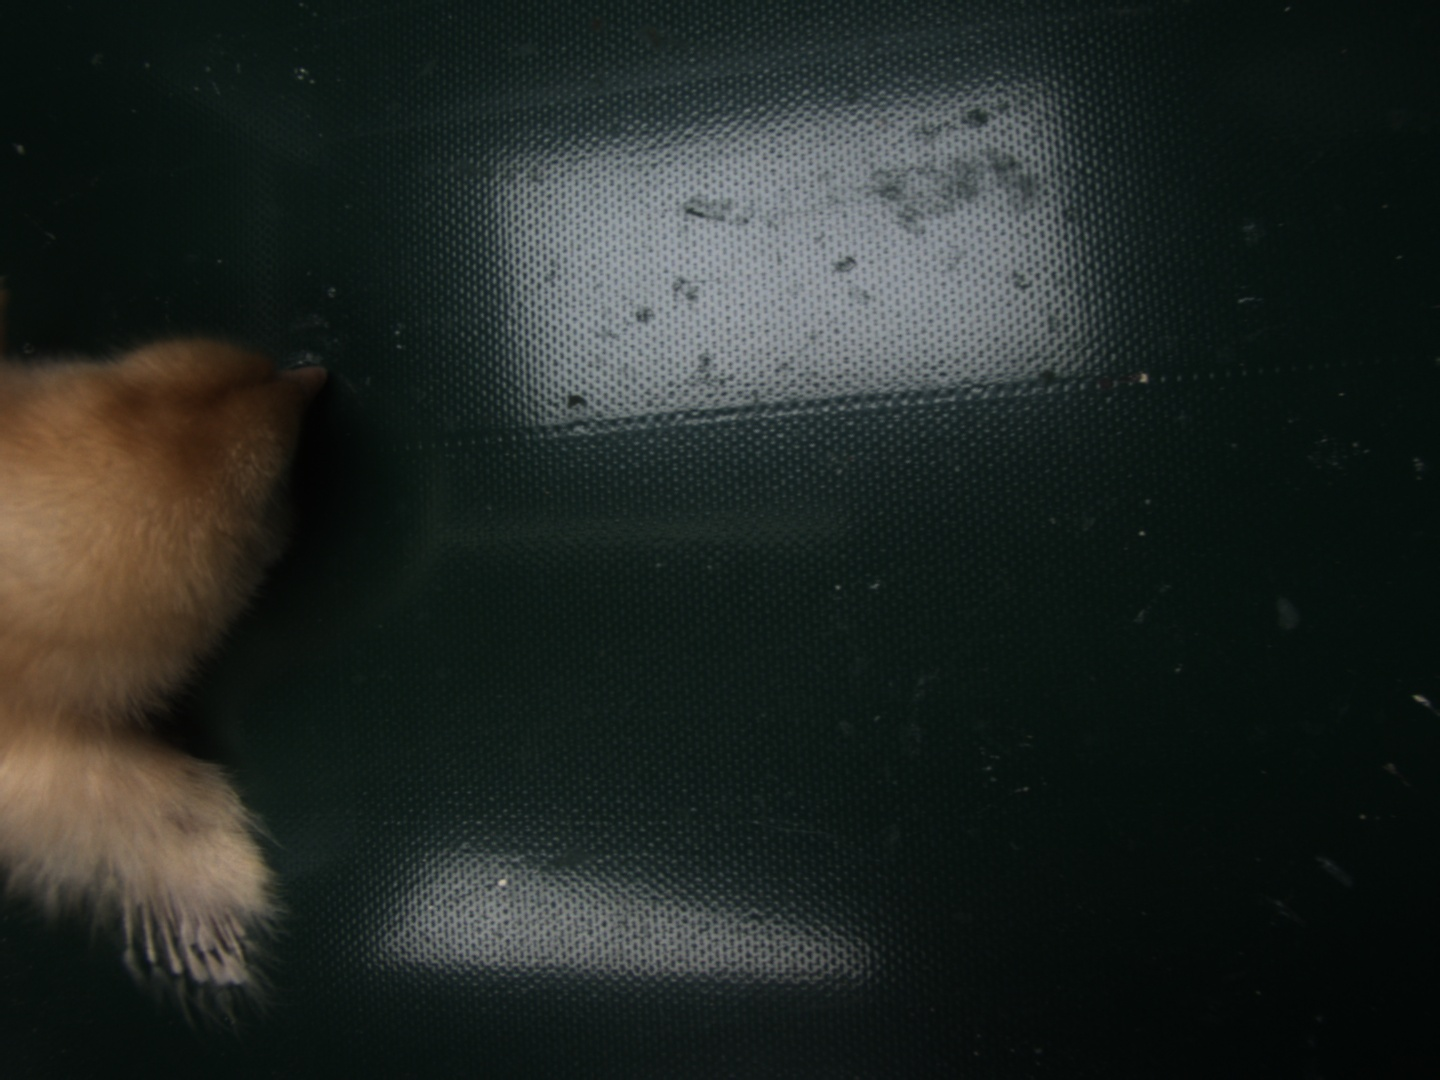female: (115, 894, 251, 989)
